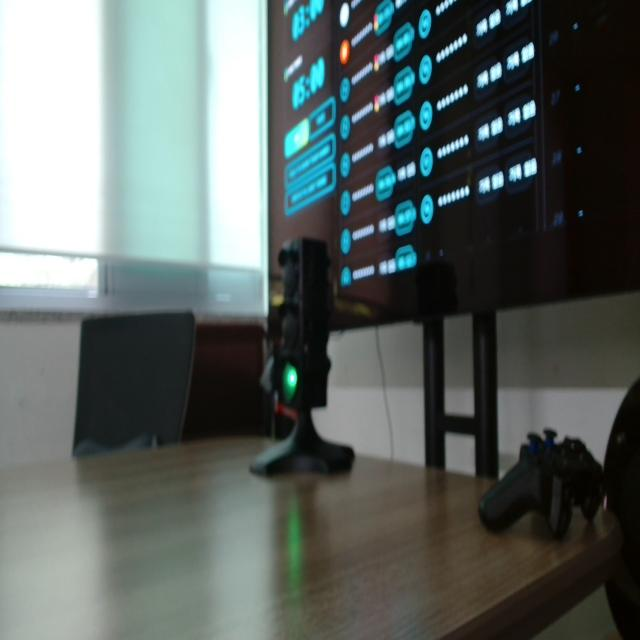green_light: (283, 364, 297, 401)
